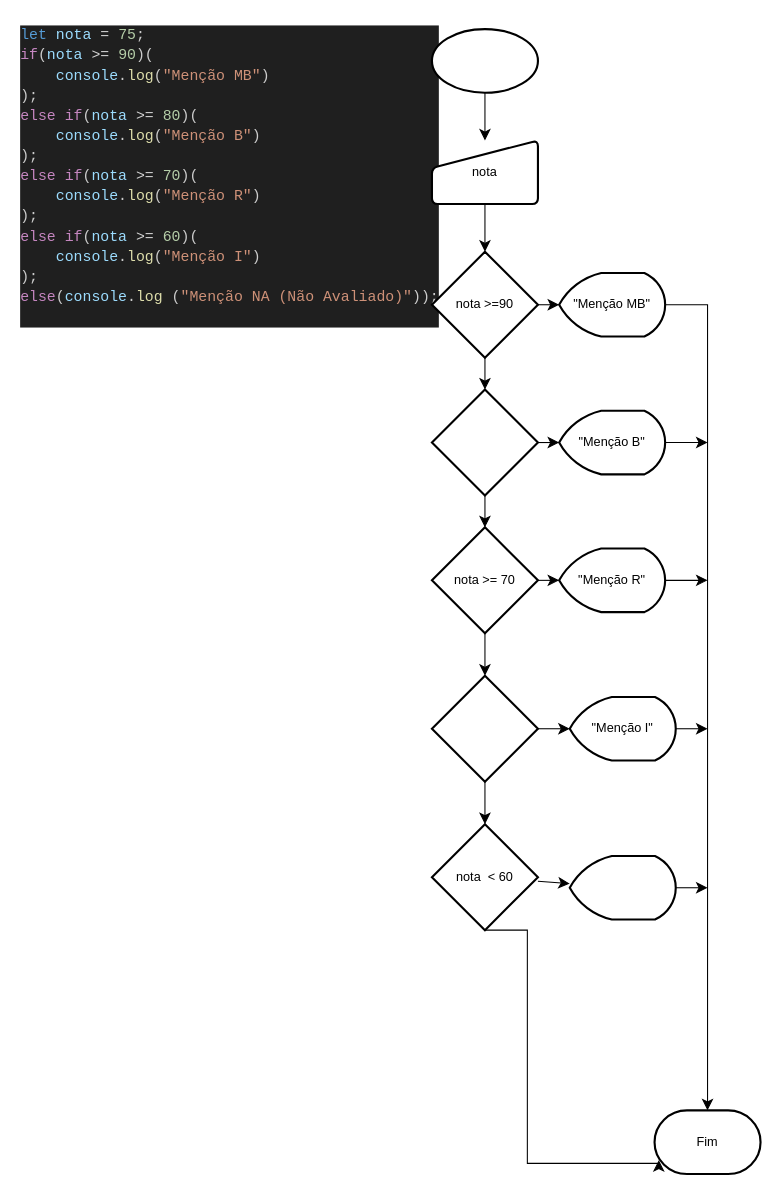
This 779x1192 diagram has some shape labels left out. Here are the shapes that lost their labels. From the top down, the centre of each, then its label:
point 484,60: Inicio
point 484,442: nota >= 80
point 484,728: nota >= 60
point 622,887: "Menção NA ("Não Avaliado")
